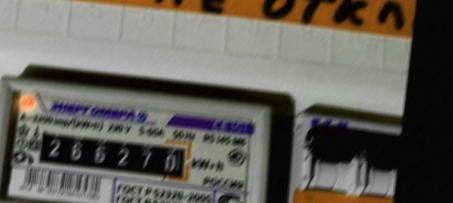0: (162, 151, 175, 172)
2: (46, 135, 62, 158), (115, 145, 130, 166)
6: (69, 140, 83, 161), (93, 143, 107, 163)
7: (138, 148, 153, 168)
screen: (24, 116, 202, 191)
